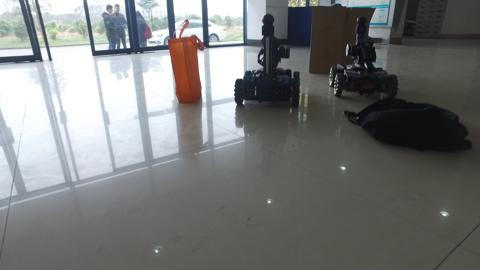bag: (169, 18, 203, 105)
chariot: (232, 12, 304, 106), (327, 15, 399, 99)
